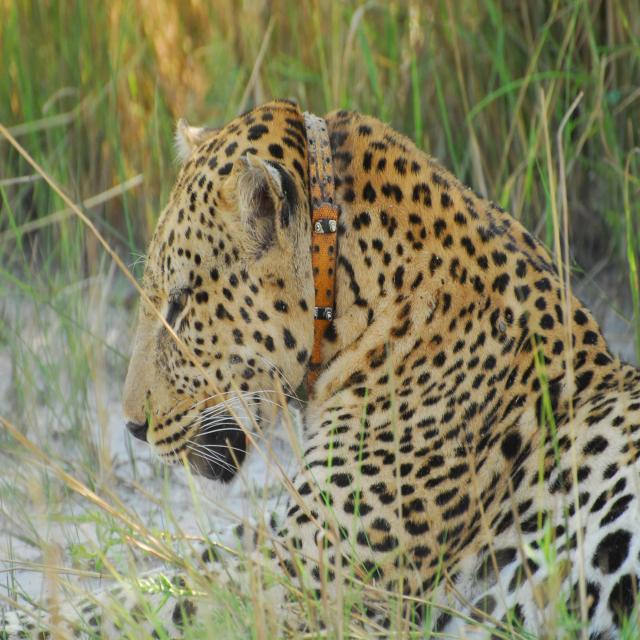Leopard: (93, 88, 639, 640)
